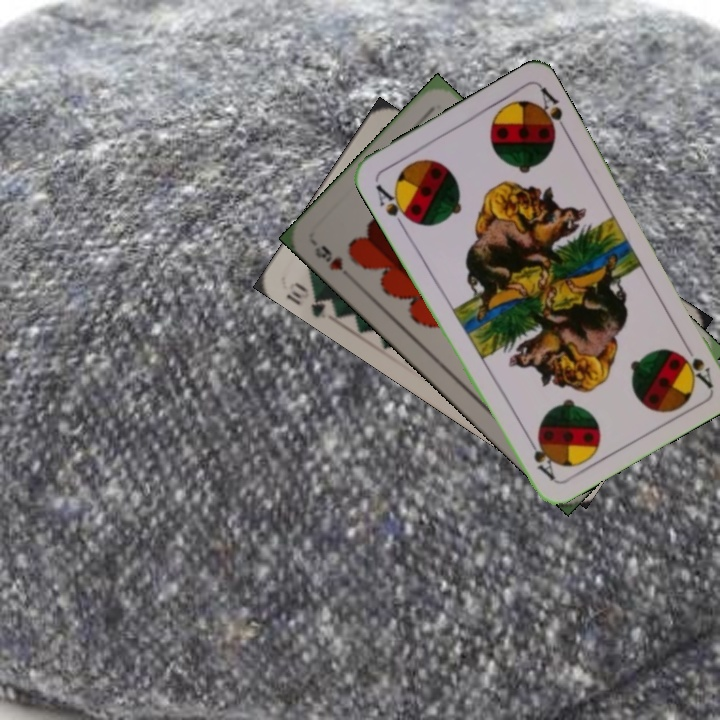G10: (282, 277, 338, 320)
H9: (310, 241, 346, 273)
SA: (371, 180, 416, 232), (677, 336, 716, 390)
